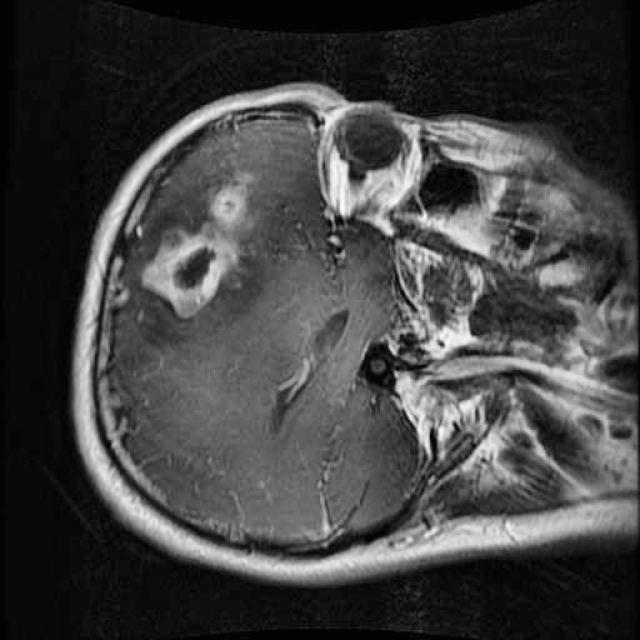Non-Tumor: (125, 156, 274, 329)
